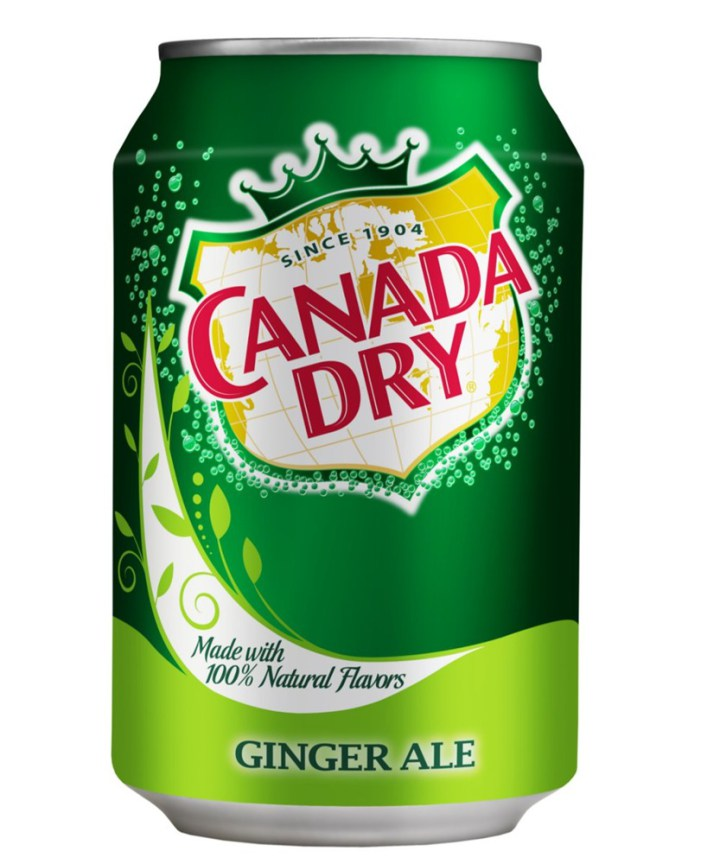Lata: (94, 32, 589, 858)
